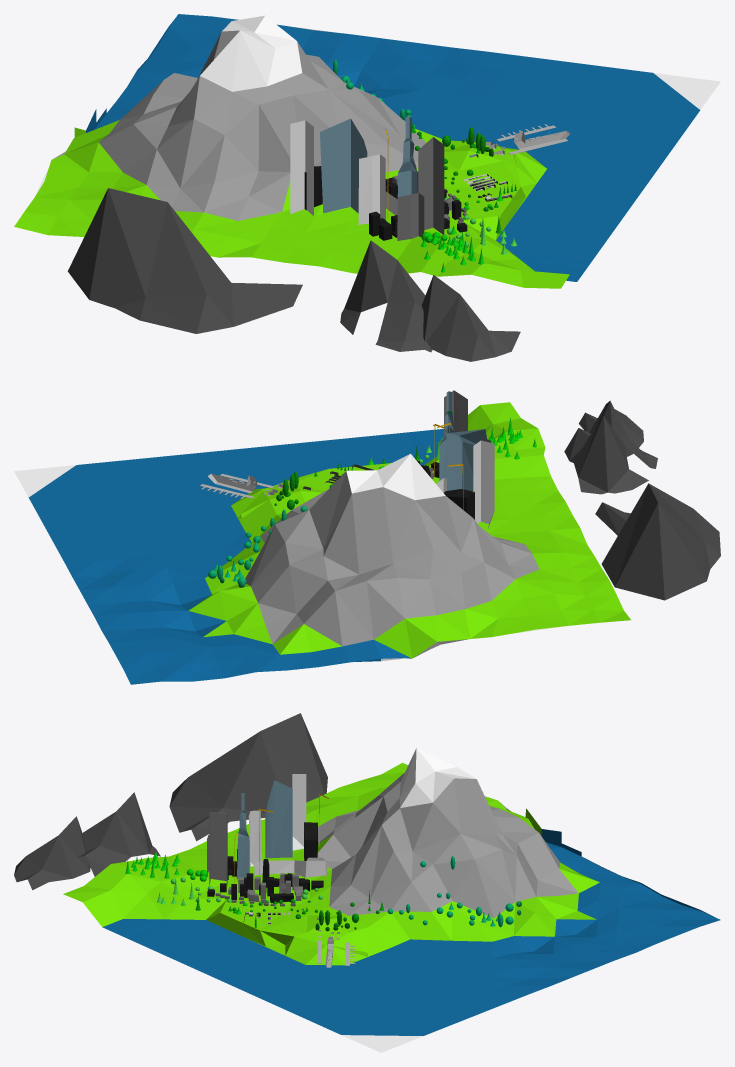
3 views of the same model, one above another, from view 1: azimuth 30°, elevation 25°; view 2: azimuth 150°, elevation 25°; view 3: azimuth 270°, elevation 25° (orthographic). The views are drawn at different scales.
Visible parts, largest first — view 1: sol et iles, buildings, sapins.1, black_building, port.1; view 2: sol et iles, buildings, sapins.1, port.1, black_building; view 3: sol et iles, buildings, sapins.1, black_building, Cube.1, port.1.
Boxes of the visible parts, x1,y1,x2,y2 form: sol et iles: (14, 14, 720, 361); buildings: (290, 116, 444, 240); sapins.1: (333, 60, 516, 272); black_building: (304, 166, 467, 240); port.1: (485, 124, 570, 155); sol et iles: (14, 400, 720, 684); buildings: (436, 390, 494, 528); sapins.1: (208, 418, 536, 587); port.1: (200, 473, 288, 498); black_building: (416, 460, 474, 519); sol et iles: (14, 713, 720, 1052); buildings: (207, 774, 327, 885); sapins.1: (125, 851, 521, 931); black_building: (207, 822, 323, 902); Cube.1: (228, 873, 302, 901); port.1: (317, 930, 355, 967).
Size of the model in its own units: 1414 by 308 by 1509.
1 material, 1 textured.
